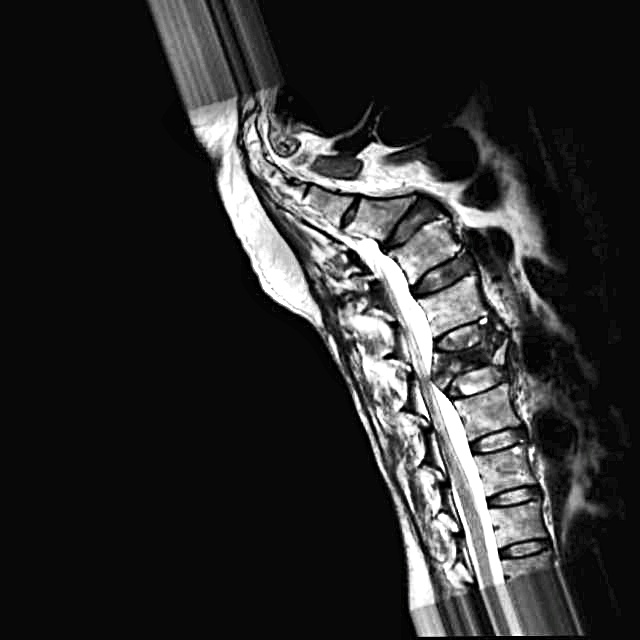Comminuted: (423, 315, 519, 412)
